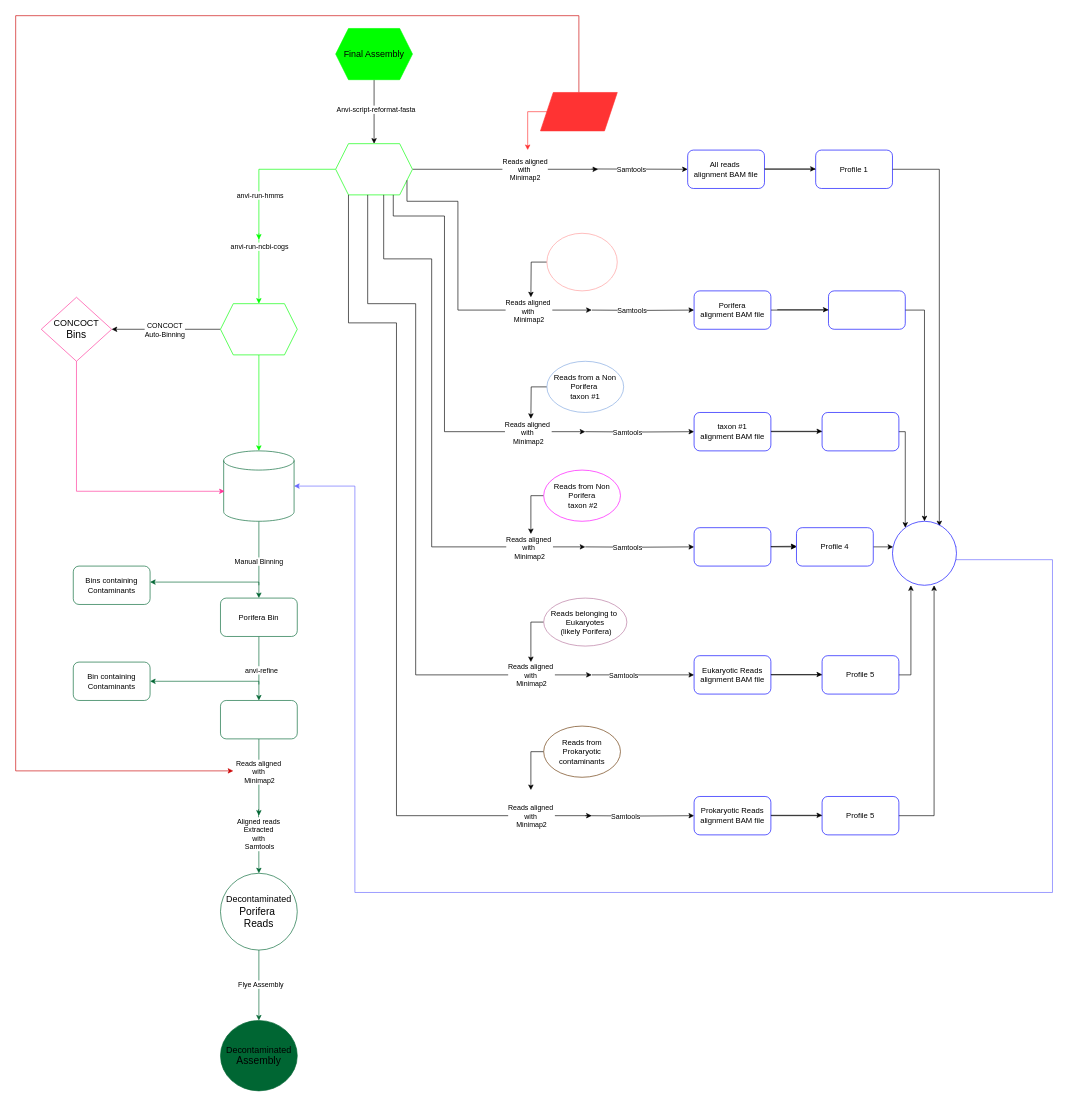
Some shapes in this 1069 by 1102 pixel diagram are drawn without their labels. Here are the shapes that lost their labels. From the top down, the centre of each, then its label:
point 578,111: Raw Reads
point 373,169: Reformatted Final Assembly
point 581,262: Porifera Reads
point 258,329: Curated Contigs-DB
point 866,309: Profile 2
point 860,431: Profile 3
point 258,485: anvi-interactive
point 732,546: taxon #2 alignment BAM file
point 924,553: Final combined Profile
point 258,719: Final Porifera Bin
